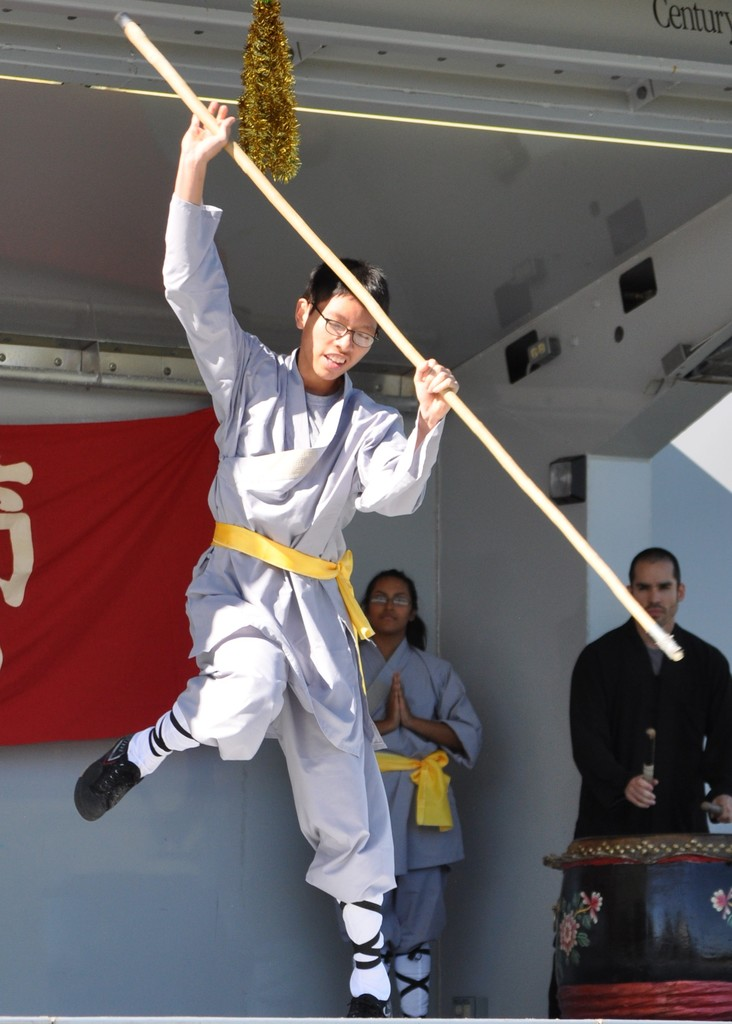Person: (74, 101, 458, 1017), (545, 549, 732, 1016), (347, 571, 482, 1020)
